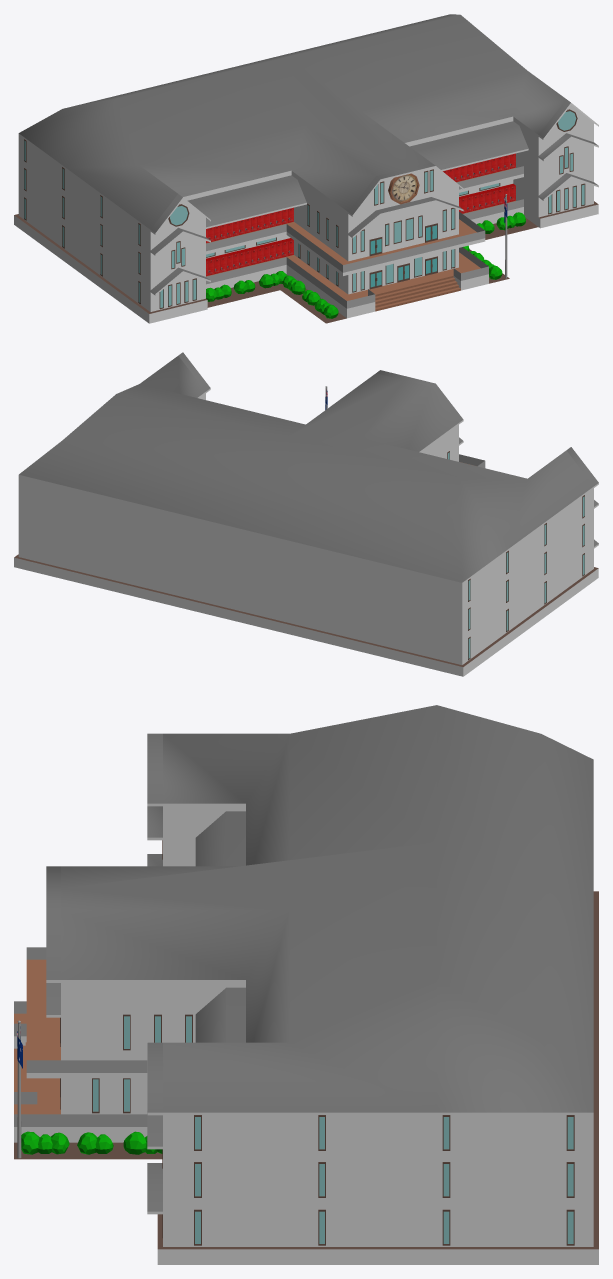
Rendered from Building_HighSchool_Mod_01.fbx.
3 renders of one model, top to bottom at view 1: azimuth 30°, elevation 25°; view 2: azimuth 150°, elevation 25°; view 3: azimuth 270°, elevation 25°, orthographic. The views are drawn at different scales.
Parts seen in each view (by area): view 1: ZombieHigh1, Railing, Bushes, Windows4, Dirt2, Windows2, Windows3, Windows7, Clock, Windows5; view 2: ZombieHigh1, Windows7; view 3: ZombieHigh1, Railing, Windows8, Bushes, Windows6, Dirt2.
Boxes of the visible parts, x1,y1,x2,y2 form: ZombieHigh1: (14,14,598,323); Railing: (206,166,523,308); Bushes: (206,212,525,318); Windows4: (352,169,455,292); Dirt2: (207,217,538,323); Windows2: (548,109,585,214); Windows3: (159,204,196,308); Windows7: (24,139,140,304); Clock: (388,173,419,204); Windows5: (298,203,338,286); ZombieHigh1: (14,352,598,676); Windows7: (468,495,584,660); ZombieHigh1: (14,705,598,1264); Railing: (14,947,147,1126); Windows8: (194,1115,574,1245); Bushes: (21,1131,162,1154); Windows6: (92,1014,192,1113); Dirt2: (14,1142,162,1159).
Size of the model in its own units: 61.34 by 19.51 by 42.39.
